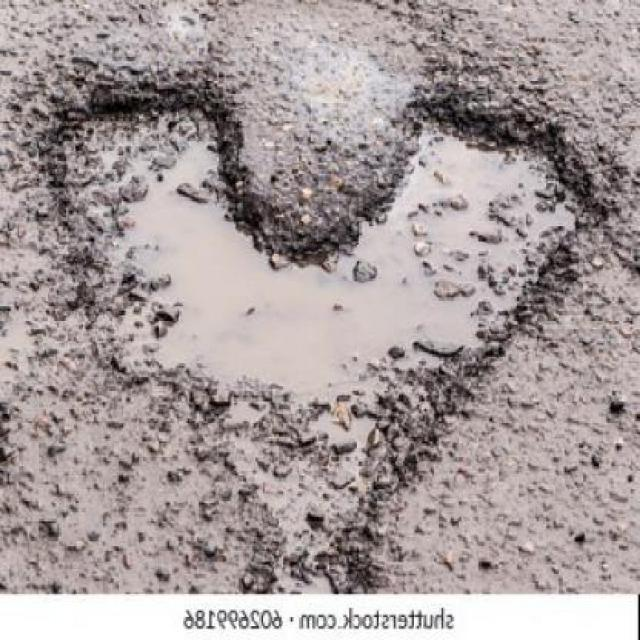pothole: (35, 94, 606, 556)
